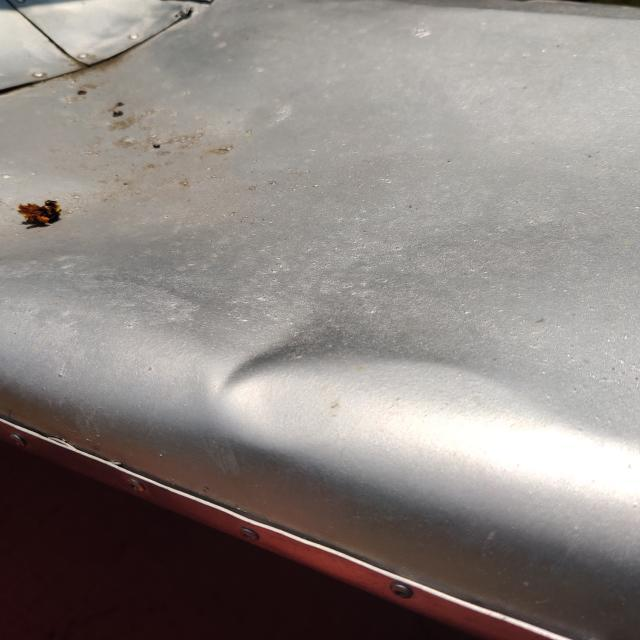dent: (192, 286, 348, 427)
